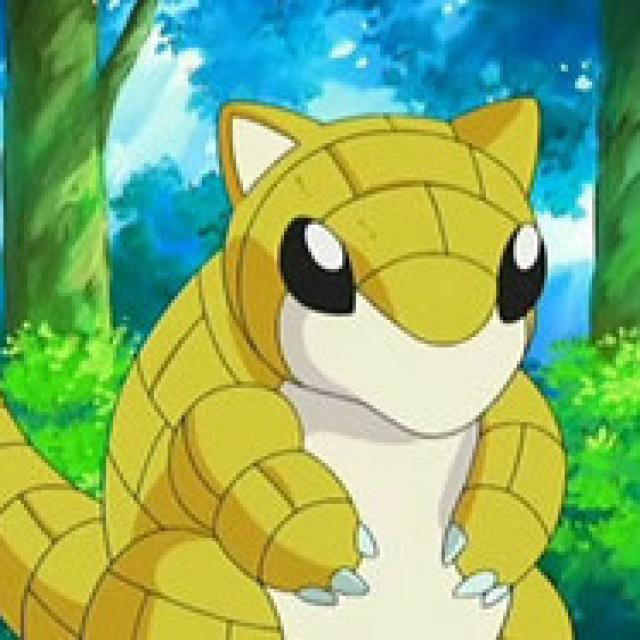Sandshrew: (0, 86, 599, 640)
